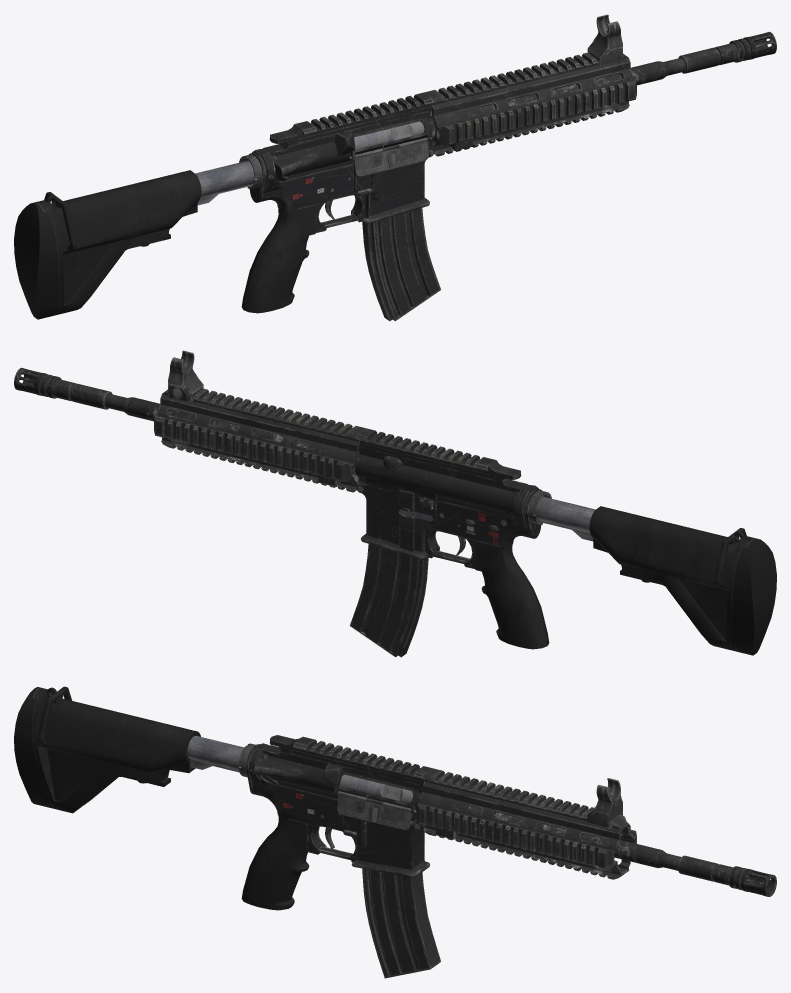
The picture shows the model from 3 angles, top to bottom: view 1: azimuth 30°, elevation 25°; view 2: azimuth 150°, elevation 25°; view 3: azimuth 330°, elevation 25°; orthographic projection.
Parts seen in each view (by area): view 1: Wp_Gun_M416_Wp_Gun_M416_0; view 2: Wp_Gun_M416_Wp_Gun_M416_0; view 3: Wp_Gun_M416_Wp_Gun_M416_0.
Boxes of the visible parts, left/top/right/bottom form: Wp_Gun_M416_Wp_Gun_M416_0: left=14, top=14, right=776, bottom=321; Wp_Gun_M416_Wp_Gun_M416_0: left=14, top=350, right=776, bottom=657; Wp_Gun_M416_Wp_Gun_M416_0: left=14, top=686, right=776, bottom=978.
Size of the model in its own units: 23903 by 7545 by 1952.
1 material, 1 textured.
